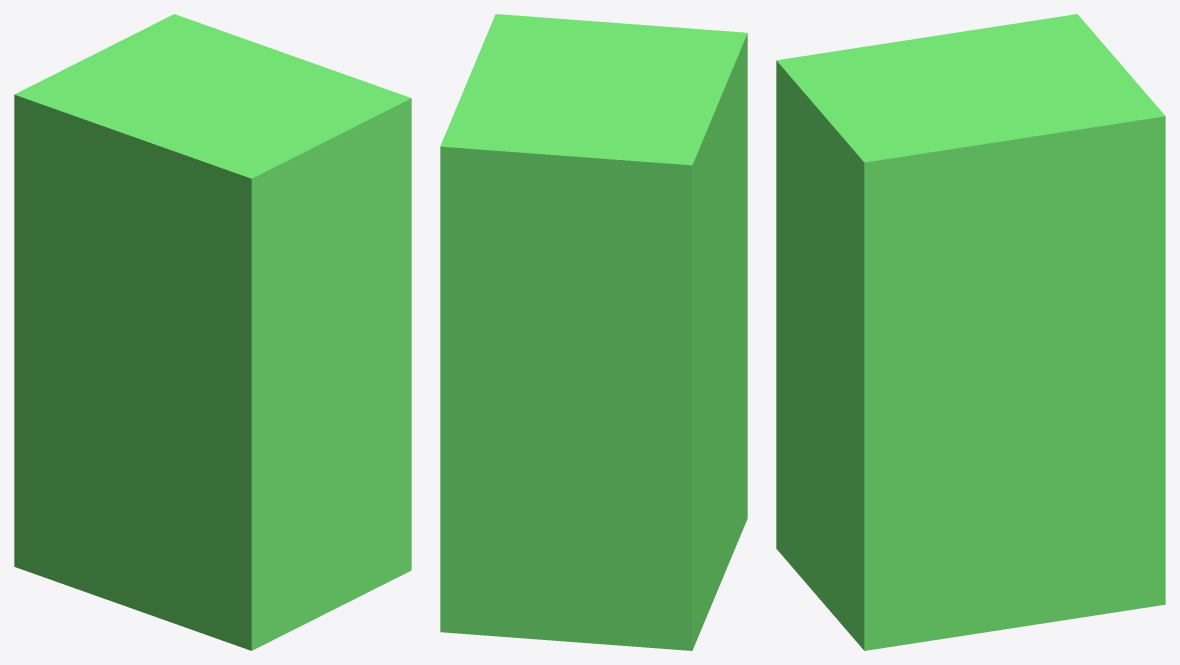
3 views of the same model, side by side, from view 1: azimuth 30°, elevation 25°; view 2: azimuth 150°, elevation 25°; view 3: azimuth 270°, elevation 25° (orthographic). The views are drawn at different scales.
Visible parts, largest first — view 1: 1034; view 2: 1034; view 3: 1034.
Boxes of the visible parts, x1=… form: 1034: x1=14, y1=14, x2=411, y2=650; 1034: x1=440, y1=14, x2=747, y2=650; 1034: x1=776, y1=14, x2=1165, y2=650.
Bounding box in the file's own units: 3.92 × 6 × 4.33.
